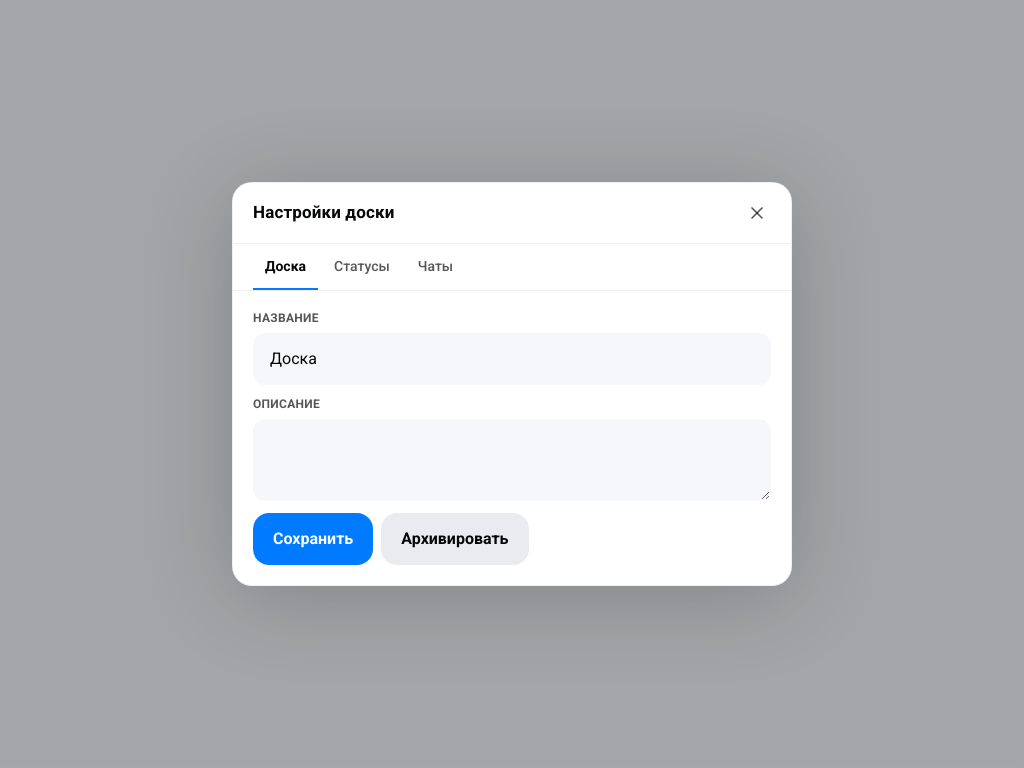
Test case: BoardSettings › показывает и копирует команду привязки
The image size is (1024, 768).
Click the tab "Чаты" at coordinates (435, 267), box [406, 244, 465, 290]
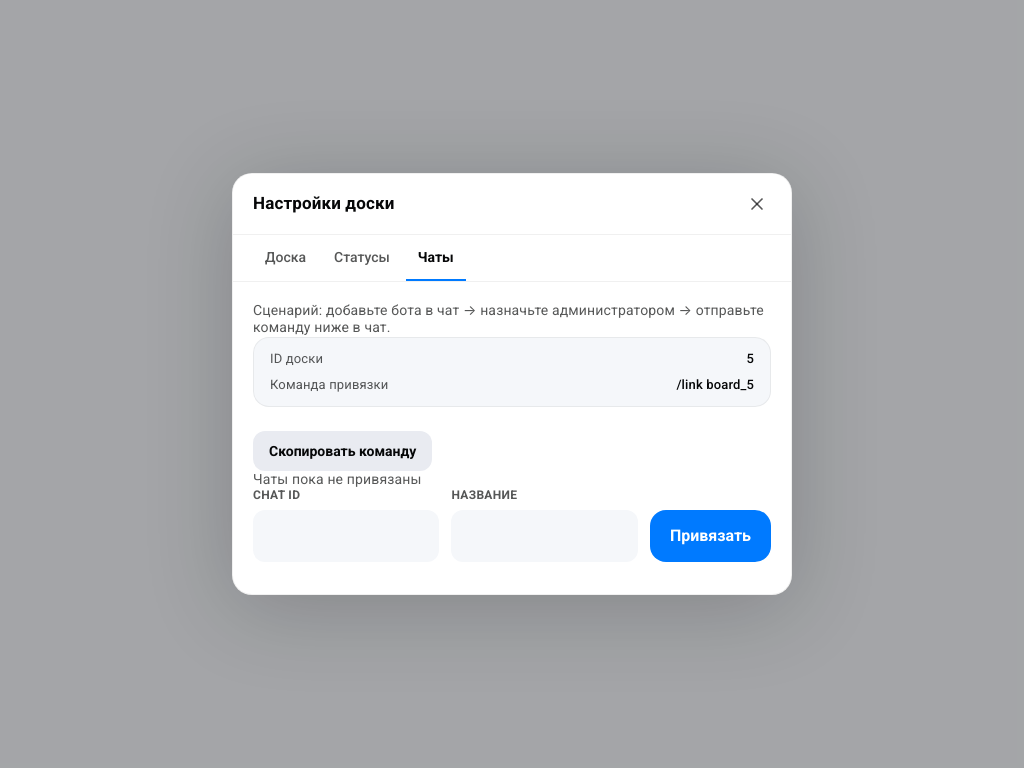
Result: the text "/link board_5" is shown at [676, 376, 754, 394]
Click the button "Скопировать команду" at coordinates (343, 451), box [253, 431, 432, 471]
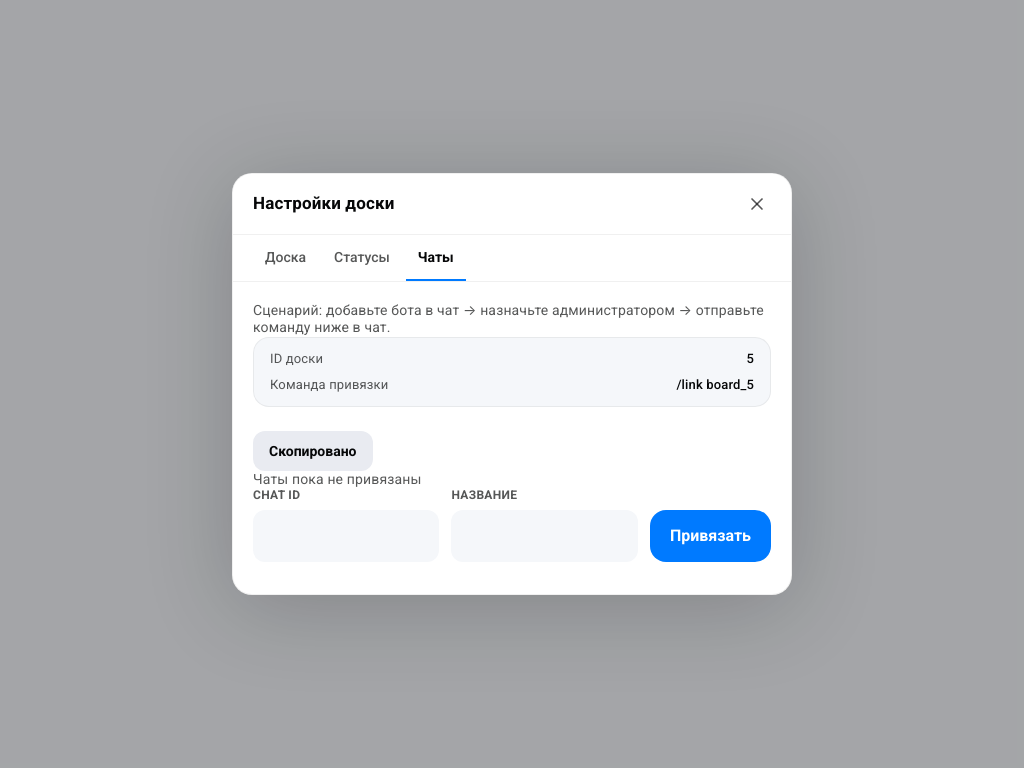
Result: the button "Скопировано" is shown at [253, 431, 372, 471]
